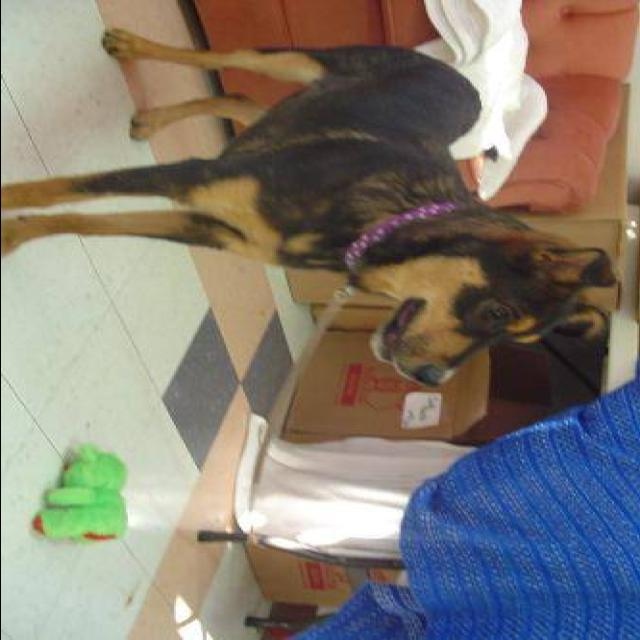dog: (0, 28, 632, 391)
